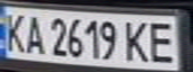1: (81, 17, 103, 60)
2: (45, 14, 69, 58)
6: (63, 15, 84, 58)
9: (96, 17, 121, 61)
A: (21, 11, 48, 55)
E: (142, 18, 184, 64)
K: (121, 18, 154, 63), (0, 9, 30, 53)
